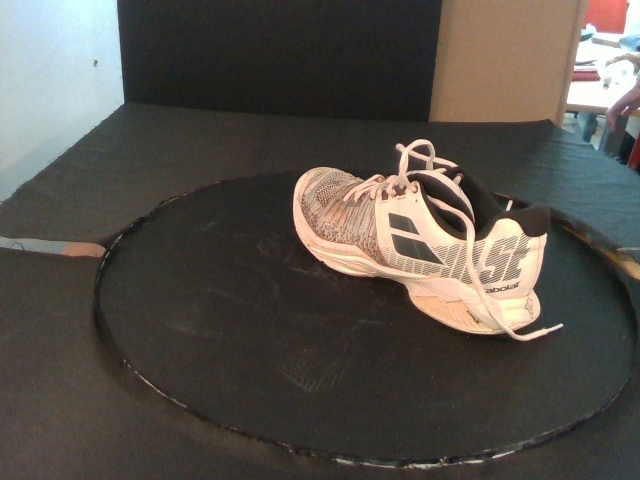shoe: (291, 165, 551, 336)
